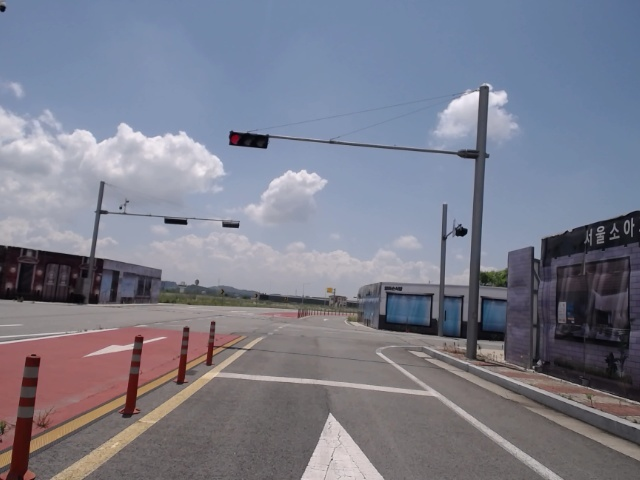red_3: (226, 130, 270, 148)
